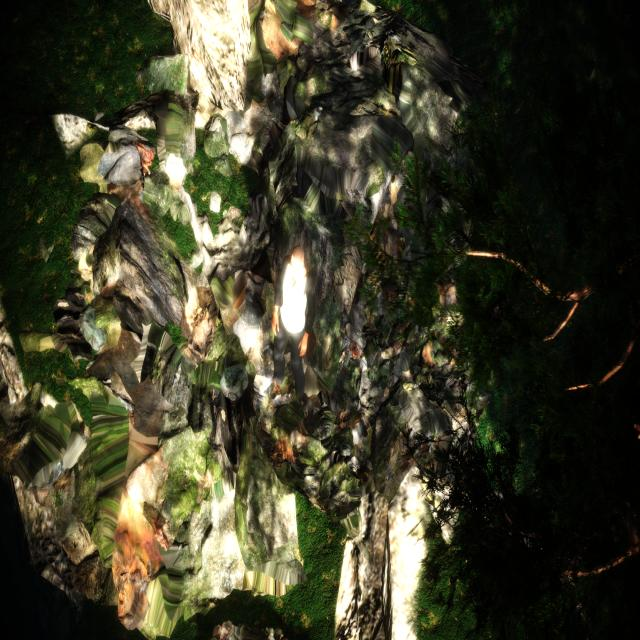Human: (266, 238, 318, 428)
